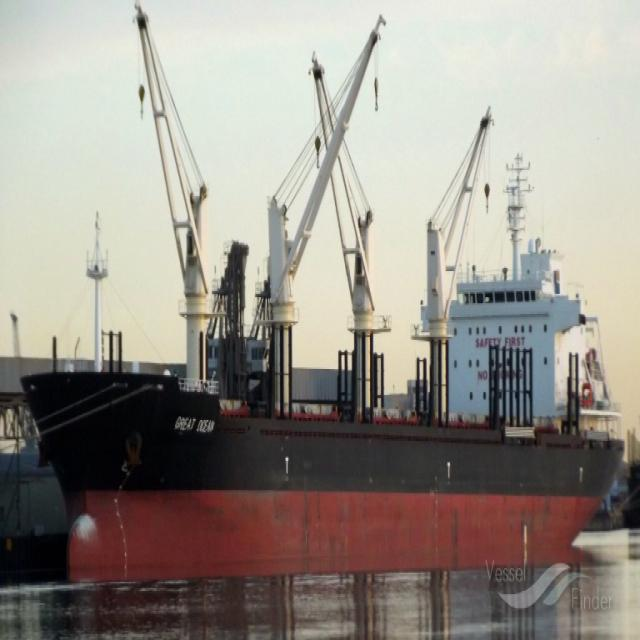OCR: (172, 410, 216, 442)
